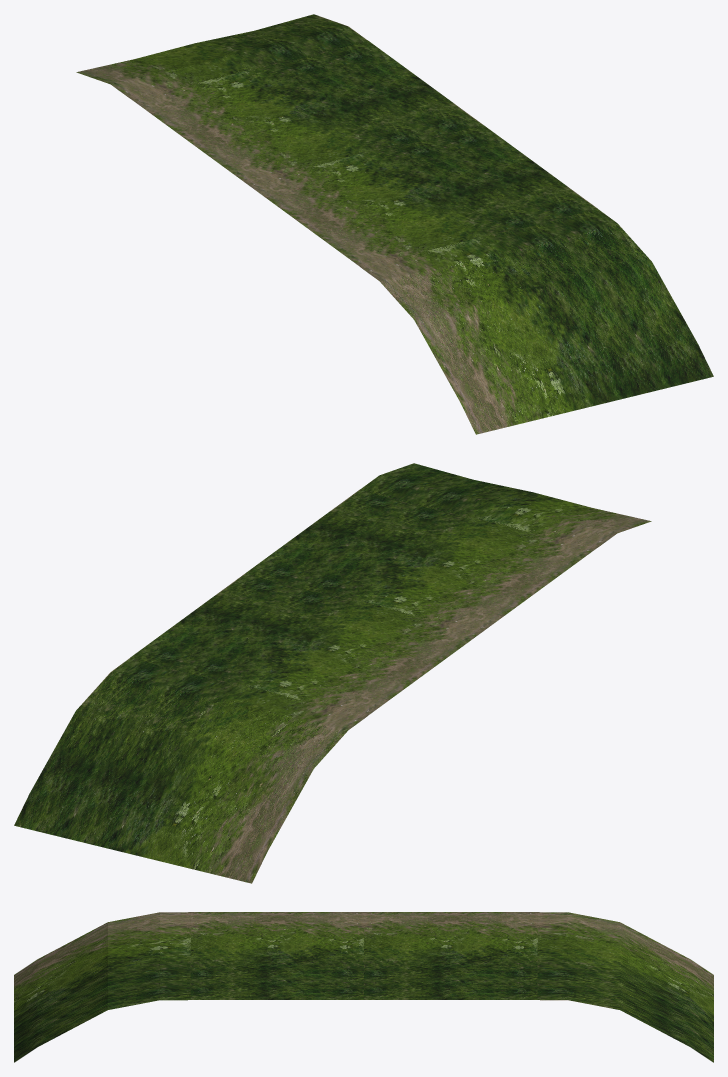
The model's file is floorr.gltf.
3 renders of one model, top to bottom at view 1: azimuth 30°, elevation 25°; view 2: azimuth 150°, elevation 25°; view 3: azimuth 270°, elevation 25°, orthographic. The views are drawn at different scales.
Parts seen in each view (by area): view 1: floorr; view 2: floorr; view 3: floorr.
Boxes of the visible parts, left/top/right/bottom form: floorr: left=76, top=14, right=713, bottom=434; floorr: left=14, top=463, right=651, bottom=883; floorr: left=14, top=912, right=713, bottom=1062.
Bounding box in the file's own units: 60 × 20.6 × 202.
1 material, 1 textured.
